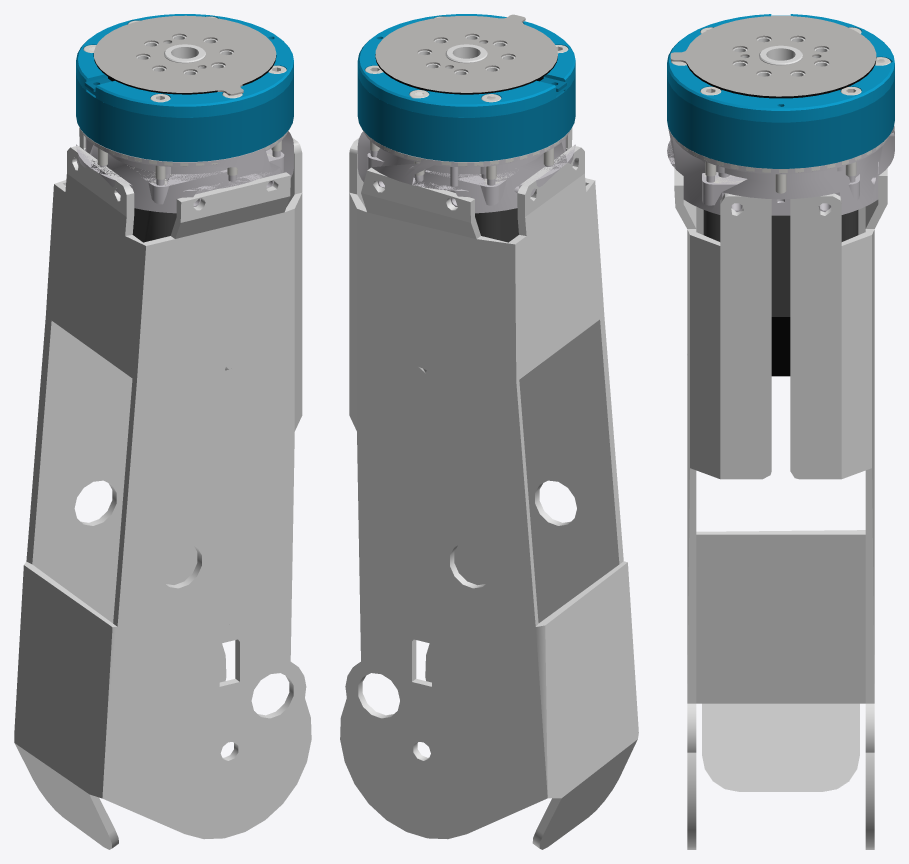
The model's file is l_upperarm_link.dae.
3 views of the same model, side by side, from view 1: azimuth 30°, elevation 25°; view 2: azimuth 150°, elevation 25°; view 3: azimuth 270°, elevation 25° (orthographic). The views are drawn at different scales.
Parts seen in each view (by area): view 1: FBXASC227FBXASC130FBXASC189FBXASC227FBXASC131FBXASC170FBXASC (×7); view 2: FBXASC227FBXASC130FBXASC189FBXASC227FBXASC131FBXASC170FBXASC (×7); view 3: FBXASC227FBXASC130FBXASC189FBXASC227FBXASC131FBXASC170FBXASC (×9).
Part boxes in pixels (<box>): FBXASC227FBXASC130FBXASC189FBXASC227FBXASC131FBXASC170FBXASC (×7): <box>14,14,311,849</box>; FBXASC227FBXASC130FBXASC189FBXASC227FBXASC131FBXASC170FBXASC (×7): <box>340,14,638,849</box>; FBXASC227FBXASC130FBXASC189FBXASC227FBXASC131FBXASC170FBXASC (×9): <box>667,14,894,849</box>.
Size of the model in its own units: 0.0749 by 0.062 by 0.2369.
